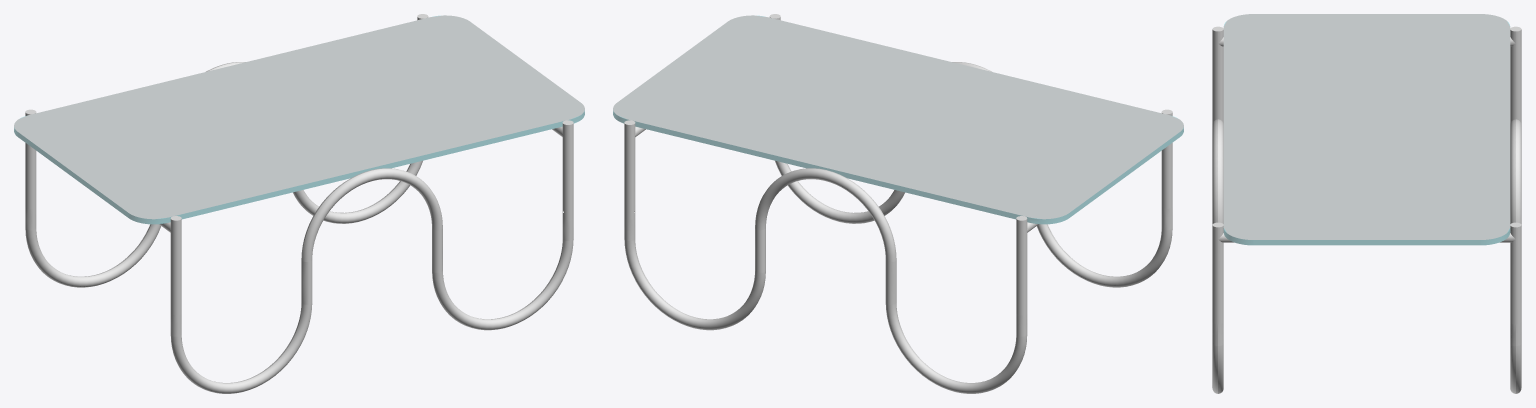
Rendered from FriendlyWave1_mv.glb.
The picture shows the model from 3 angles, left to right: view 1: azimuth 30°, elevation 25°; view 2: azimuth 150°, elevation 25°; view 3: azimuth 270°, elevation 25°; orthographic projection. The views are drawn at different scales.
Visible parts, largest first — view 1: FreindlyWave1_Top, FreindlyWave1_Leg; view 2: FreindlyWave1_Top, FreindlyWave1_Leg; view 3: FreindlyWave1_Top, FreindlyWave1_Leg.
Boxes of the visible parts, box(x1,y1,x2,y2) form: FreindlyWave1_Top: box(14, 15, 584, 224); FreindlyWave1_Leg: box(25, 14, 573, 393); FreindlyWave1_Top: box(613, 15, 1183, 224); FreindlyWave1_Leg: box(624, 14, 1172, 393); FreindlyWave1_Top: box(1223, 14, 1510, 245); FreindlyWave1_Leg: box(1212, 26, 1521, 393).
Size of the model in its own units: 0.9 by 0.36 by 0.52.
